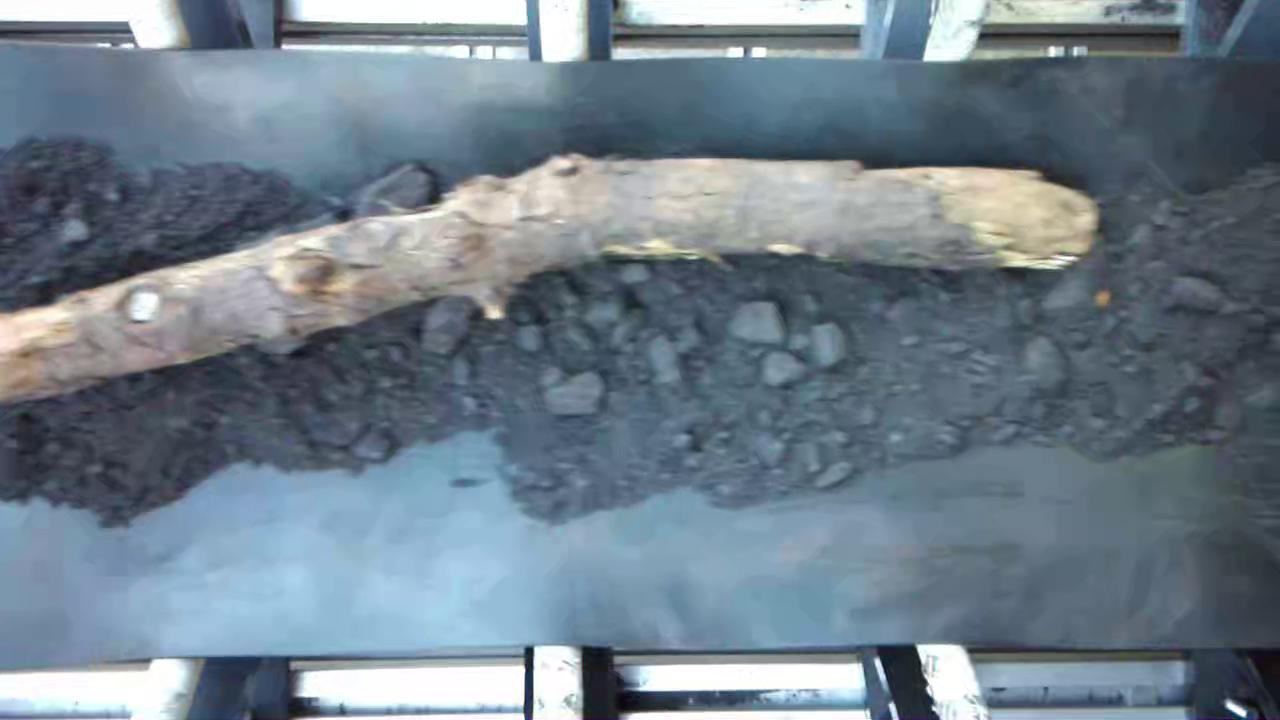conveyor: (1, 70, 1280, 637)
